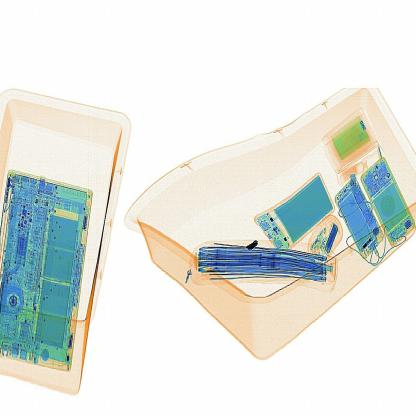knife: (241, 234, 268, 261)
